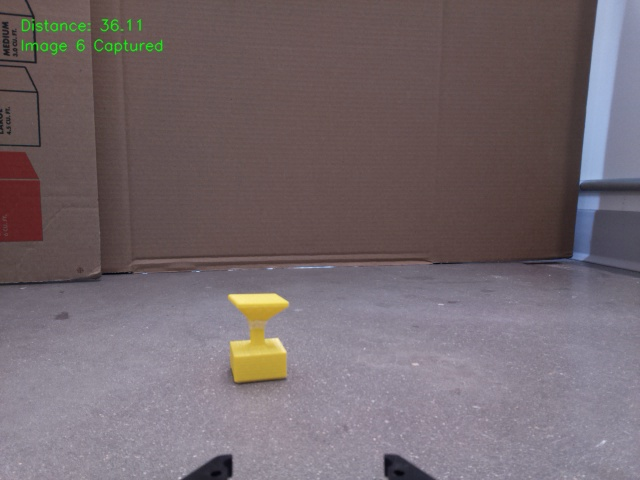block: (226, 293, 289, 385)
